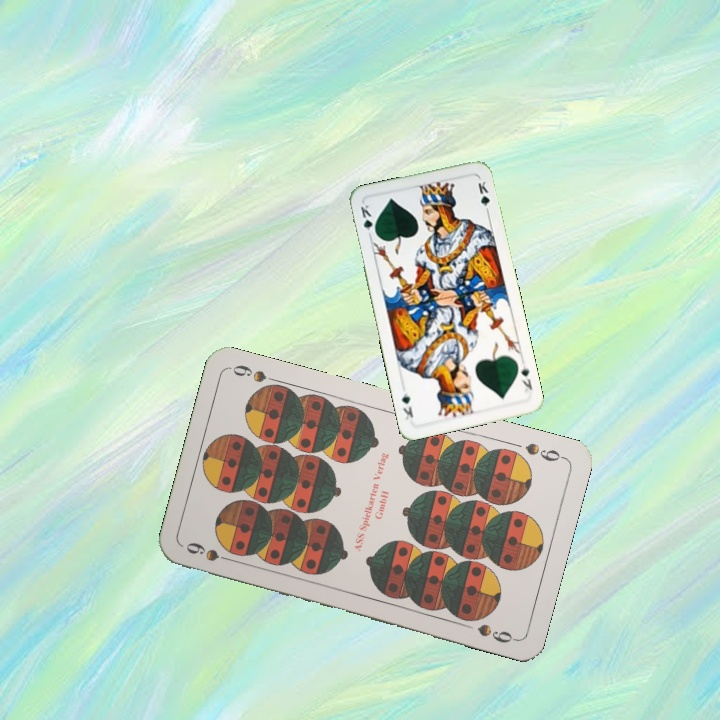GK: (356, 201, 379, 240), (517, 361, 535, 394)
S9: (182, 538, 239, 566), (521, 439, 567, 464)
